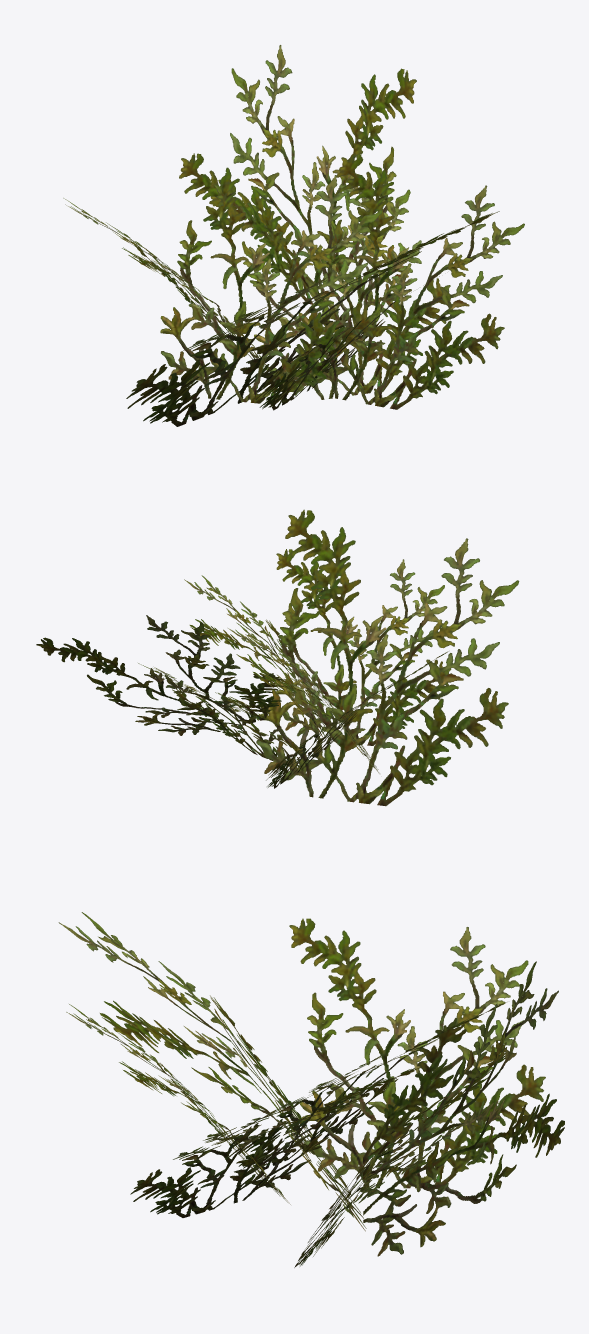
The model's file is SM_EN_2006_zhiwu03.FBX.
3 renders of one model, top to bottom at view 1: azimuth 30°, elevation 25°; view 2: azimuth 150°, elevation 25°; view 3: azimuth 270°, elevation 25°, orthographic. The views are drawn at different scales.
Visible parts, largest first — view 1: SM_EN_2006_zhiwu03; view 2: SM_EN_2006_zhiwu03; view 3: SM_EN_2006_zhiwu03.
Boxes of the visible parts, x1=… form: SM_EN_2006_zhiwu03: x1=63, y1=45, x2=524, y2=426; SM_EN_2006_zhiwu03: x1=36, y1=509, x2=519, y2=806; SM_EN_2006_zhiwu03: x1=58, y1=912, x2=564, y2=1267.
Size of the model in its own units: 269 by 157 by 229.
